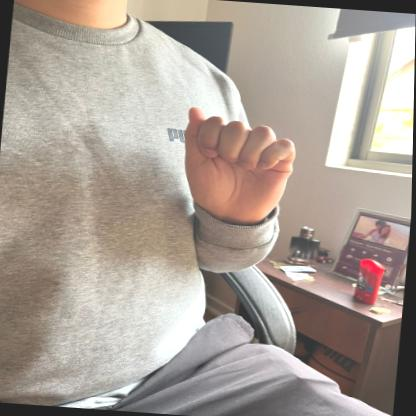A: (169, 100, 306, 228)
